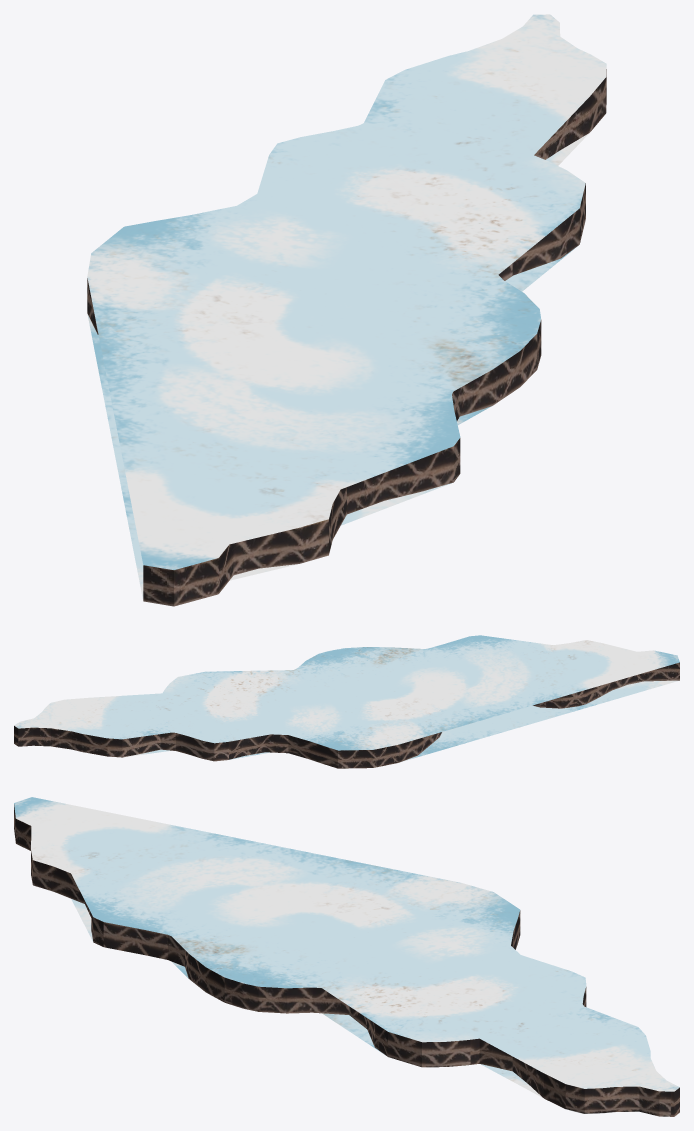
Rendered from WavePlane_Ver2.fbx.
3 views of the same model, one above another, from view 1: azimuth 30°, elevation 25°; view 2: azimuth 150°, elevation 25°; view 3: azimuth 270°, elevation 25° (orthographic). The views are drawn at different scales.
Parts seen in each view (by area): view 1: Plane.001; view 2: Plane.001; view 3: Plane.001.
Part boxes in pixels (x1,y1,x2,y2): Plane.001: (87,14,606,606); Plane.001: (14,635,679,768); Plane.001: (14,797,679,1116).
Bounding box in the file's own units: 195 × 7.77 × 186.
